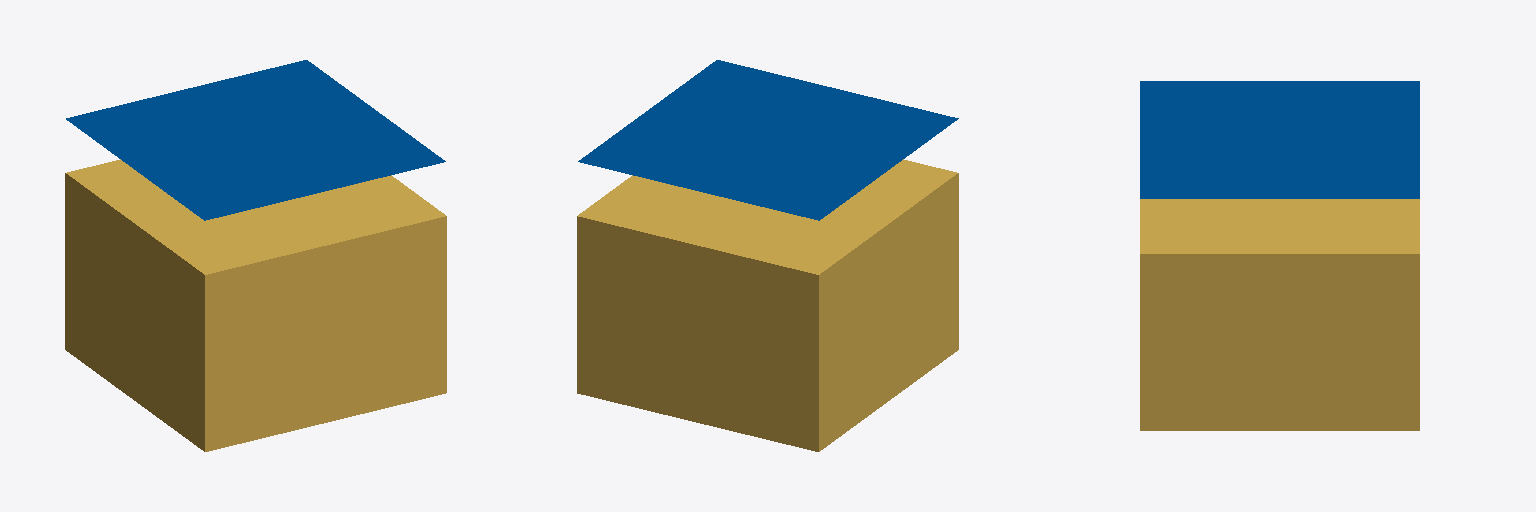
The model's file is water.obj.
3 renders of one model, left to right at view 1: azimuth 30°, elevation 25°; view 2: azimuth 150°, elevation 25°; view 3: azimuth 270°, elevation 25°, orthographic.
Visible parts, largest first — view 1: Water_Cube.002; view 2: Water_Cube.002; view 3: Water_Cube.002.
Part boxes in pixels (x1,y1,x2,y2): Water_Cube.002: (65,60,446,451); Water_Cube.002: (577,60,958,451); Water_Cube.002: (1140,81,1419,430).
Bounding box in the file's own units: 0.5012 × 0.4574 × 0.5001.